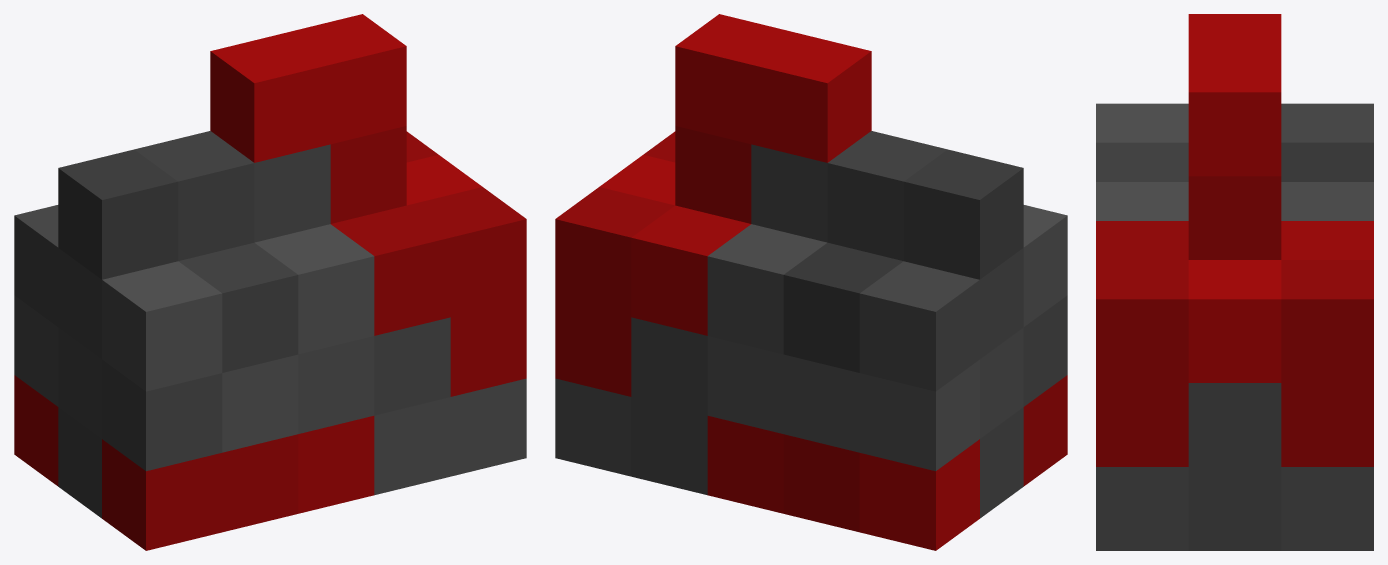
File: Pez Pequeñisimo-1.obj
The picture shows the model from 3 angles, left to right: view 1: azimuth 30°, elevation 25°; view 2: azimuth 150°, elevation 25°; view 3: azimuth 270°, elevation 25°; orthographic projection. The views are drawn at different scales.
Size of the model in its own units: 0.5 by 0.5 by 0.3.
Materials: 1 (1 with a texture image).
